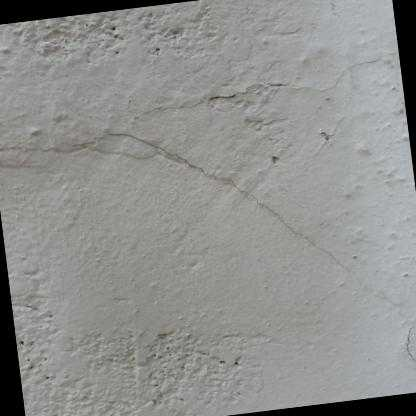crack: (66, 54, 382, 283), (398, 322, 416, 366)
